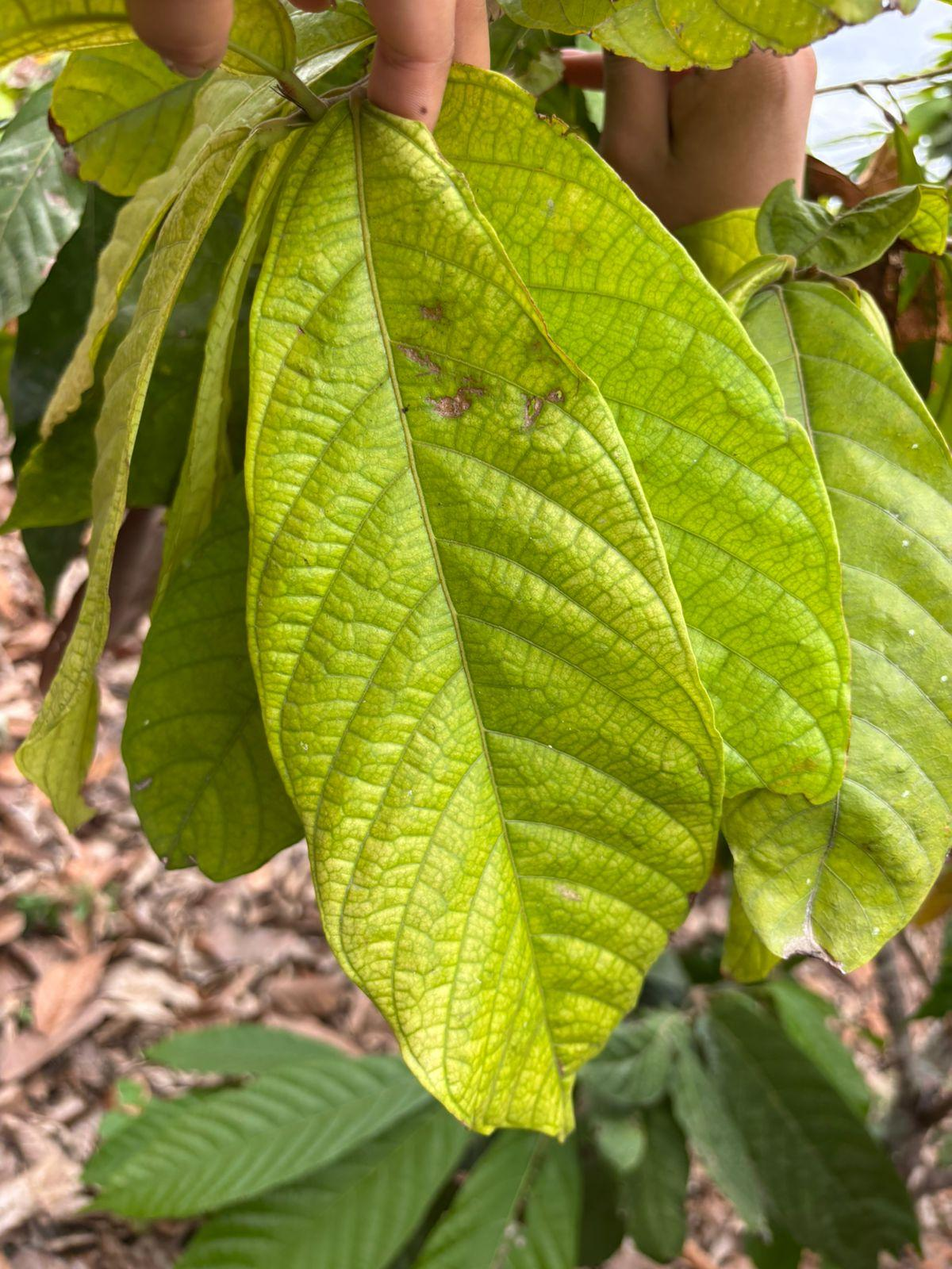deficiencia_nitrogeno: (246, 97, 723, 1135), (436, 70, 849, 800), (724, 279, 951, 968)
